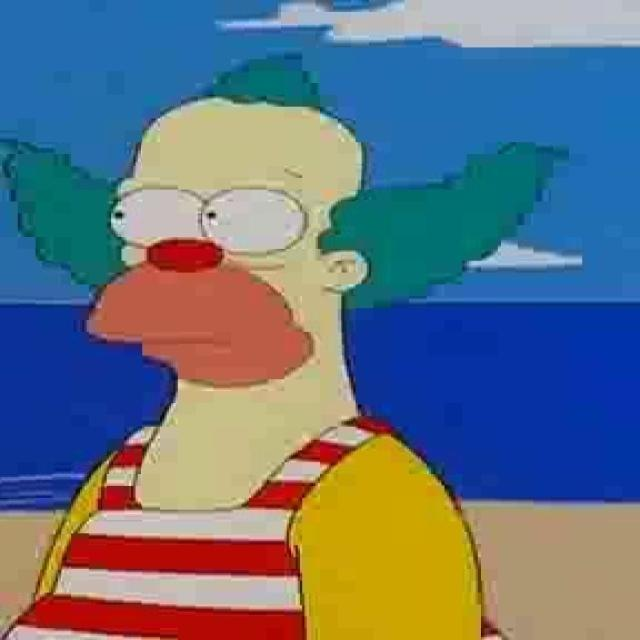Krusty the Clown: (1, 52, 559, 428)
